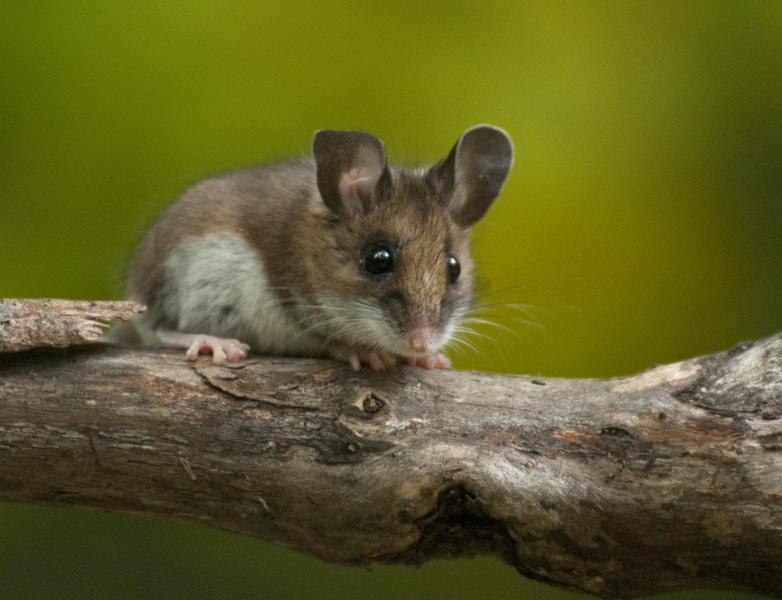rat: (128, 126, 513, 370)
